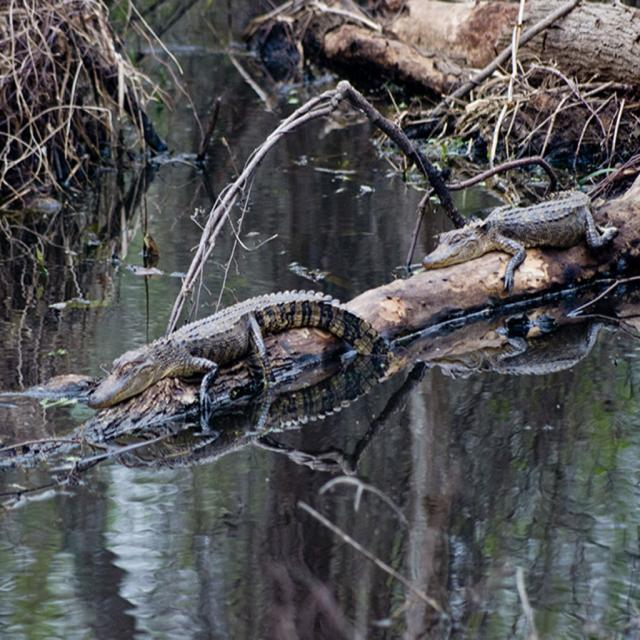crocodile: (86, 289, 396, 413), (420, 186, 626, 296)
